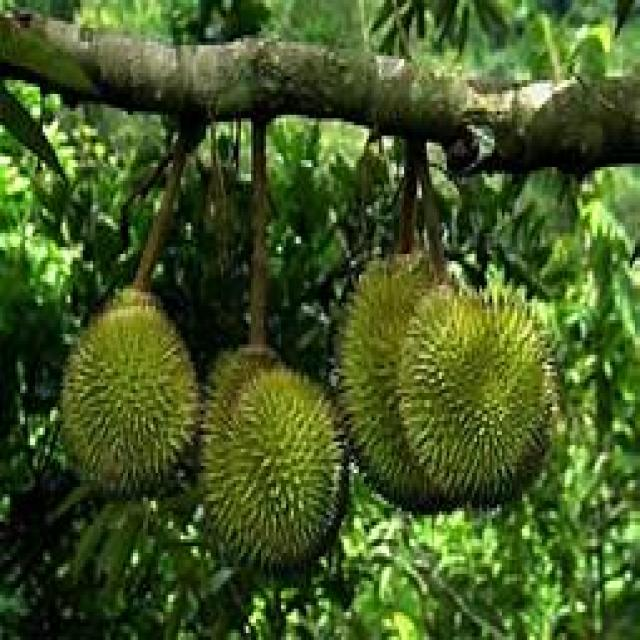immature: (404, 284, 558, 504), (203, 348, 348, 578), (54, 292, 198, 492)
